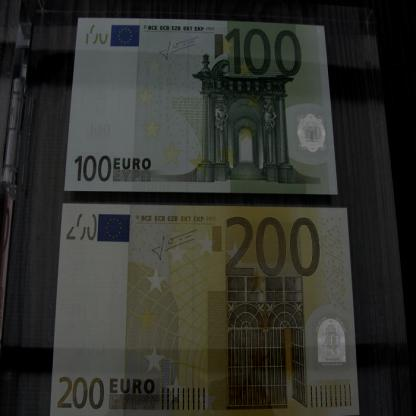euro_banknote: (51, 205, 359, 416), (67, 21, 339, 194)
